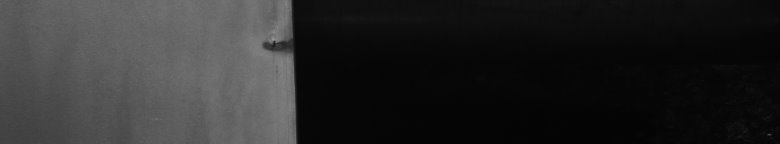hb: (256, 4, 280, 64)
